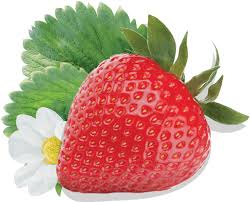strawberry: (55, 24, 230, 195)
